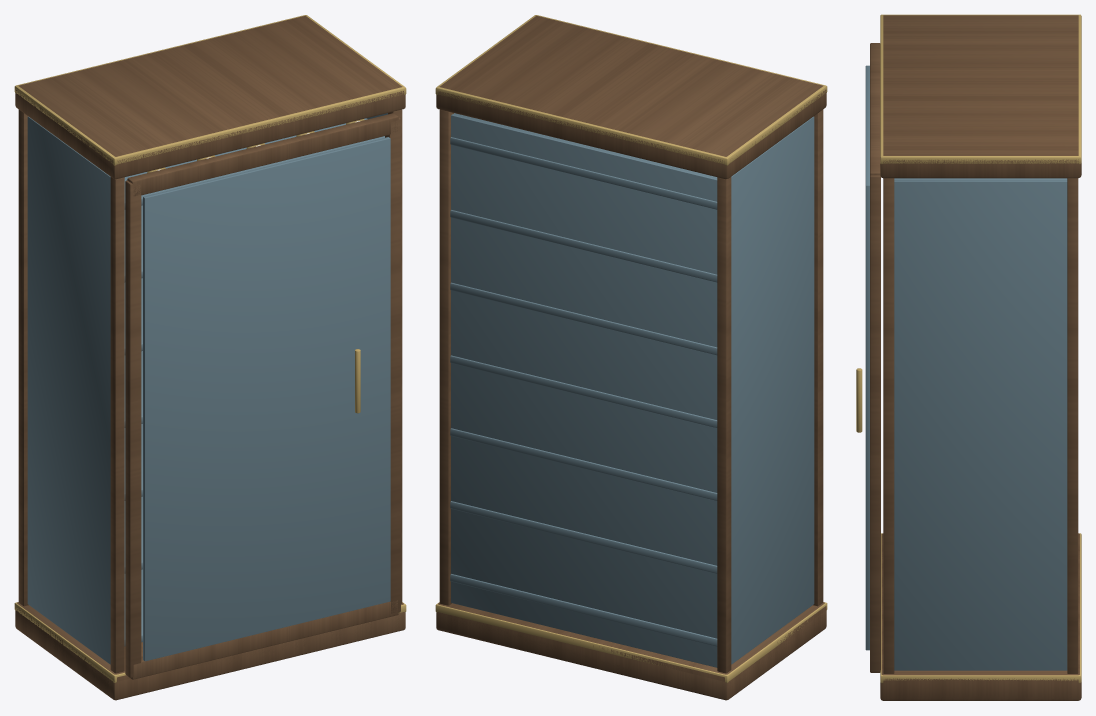
Rendered from pf_display_glass_display_tower_t5.glb.
The picture shows the model from 3 angles, left to right: view 1: azimuth 30°, elevation 25°; view 2: azimuth 150°, elevation 25°; view 3: azimuth 270°, elevation 25°; orthographic projection.
Visible parts, largest first — view 1: Door_Glass_01, Tower_Glass_2, Tower_Top, Door_Frame_01_L, Tower_Post_-0.65_-0.38, Plinth_Base, Door_Frame_01_Top, Door_Frame_01_R, Tower_Post_-0.65_+0.38, Tower_Base, Door_Frame_01_Bottom, Crown_Trim (+3 smaller); view 2: Tower_Glass_1, Tower_Glass_2, Tower_Top, Tower_Post_-0.65_+0.38, Plinth_Base, Tower_Base, Tower_Post_+0.65_+0.38, Tower_Post_-0.65_-0.38, Crown_Trim, Plinth_Trim, Shelf_07, Shelf_01 (+5 smaller); view 3: Tower_Glass_3, Tower_Top, Tower_Post_+0.65_+0.38, Tower_Post_+0.65_-0.38, Tower_Base, Door_Frame_01_R, Crown_Trim, Door_Glass_01, Plinth_Trim, Door_Frame_01_Top, Plinth_Base, Door_Handle_01.
Part boxes in pixels (x1=…): Door_Glass_01: x1=143, y1=137, x2=390, y2=661; Tower_Glass_2: x1=27, y1=116, x2=110, y2=664; Tower_Top: x1=15, y1=15, x2=405, y2=179; Door_Frame_01_L: x1=125, y1=180, x2=141, y2=677; Tower_Post_-0.65_-0.38: x1=110, y1=177, x2=124, y2=673; Plinth_Base: x1=15, y1=610, x2=405, y2=700; Door_Frame_01_Top: x1=127, y1=113, x2=398, y2=196; Door_Frame_01_R: x1=385, y1=117, x2=400, y2=613; Tower_Post_-0.65_+0.38: x1=18, y1=109, x2=28, y2=606; Tower_Base: x1=15, y1=602, x2=404, y2=700; Door_Frame_01_Bottom: x1=130, y1=600, x2=398, y2=679; Crown_Trim: x1=14, y1=15, x2=406, y2=165; Tower_Glass_1: x1=451, y1=114, x2=717, y2=667; Tower_Glass_2: x1=731, y1=116, x2=814, y2=664; Tower_Top: x1=436, y1=15, x2=826, y2=179; Tower_Post_-0.65_+0.38: x1=717, y1=177, x2=731, y2=673; Plinth_Base: x1=436, y1=610, x2=826, y2=700; Tower_Base: x1=437, y1=602, x2=826, y2=700; Tower_Post_+0.65_+0.38: x1=439, y1=109, x2=453, y2=605; Tower_Post_-0.65_-0.38: x1=813, y1=109, x2=823, y2=606; Crown_Trim: x1=435, y1=15, x2=827, y2=165; Plinth_Trim: x1=435, y1=602, x2=827, y2=682; Shelf_07: x1=450, y1=118, x2=717, y2=209; Shelf_01: x1=450, y1=574, x2=717, y2=646; Tower_Glass_3: x1=894, y1=180, x2=1067, y2=670; Tower_Top: x1=880, y1=15, x2=1081, y2=178; Tower_Post_+0.65_+0.38: x1=1067, y1=178, x2=1078, y2=673; Tower_Post_+0.65_-0.38: x1=883, y1=178, x2=894, y2=673; Tower_Base: x1=880, y1=533, x2=1081, y2=699; Door_Frame_01_R: x1=870, y1=175, x2=880, y2=671; Crown_Trim: x1=880, y1=14, x2=1081, y2=164; Door_Glass_01: x1=865, y1=65, x2=869, y2=650; Plinth_Trim: x1=880, y1=533, x2=1081, y2=683; Door_Frame_01_Top: x1=870, y1=43, x2=880, y2=175; Plinth_Base: x1=880, y1=682, x2=1081, y2=700; Door_Handle_01: x1=856, y1=368, x2=862, y2=432.
Bounding box in the file's own units: 1.38 × 2.45 × 0.917.
Materials: 5 (1 with a texture image).
